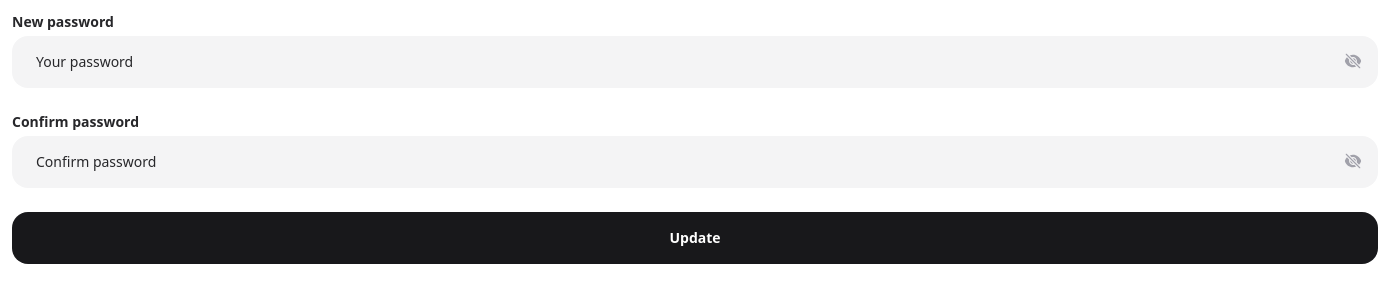
UpdatePasswordForm › displays validation errors for invalid inputs
The image size is (1390, 305).
Click the button "Update" at (695, 238), box [12,212,1378,264]
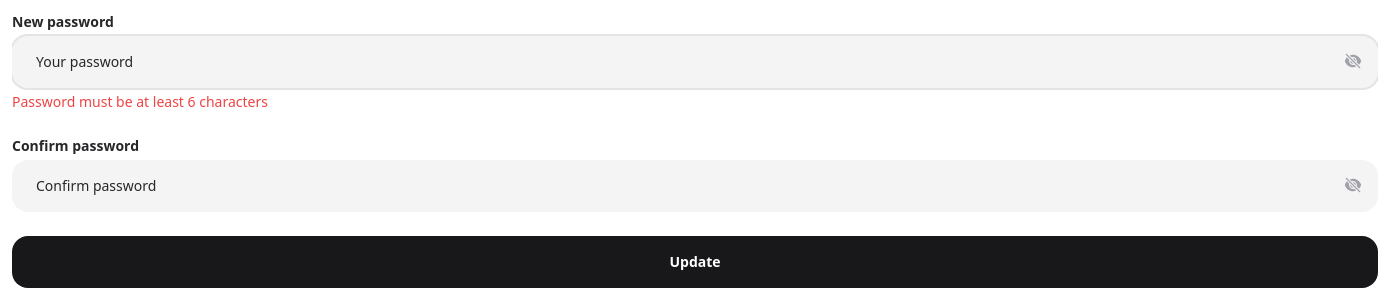
Result: the text "Password must be at least 6 characters" is shown at [12,92,268,111]
